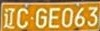C: (17, 8, 28, 29)
